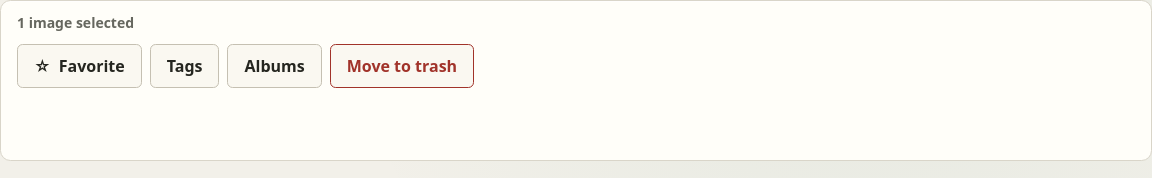
Scenario: curation actions › shows the change before the answer and takes it back when it fails
Click the button "☆ Favorite" at (79, 66), box [17,44,142,88]
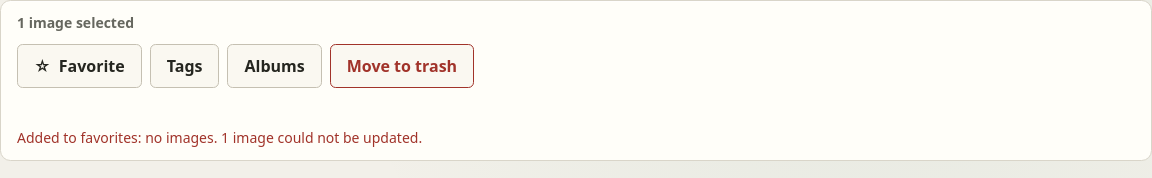
Check: the message named "Curation result" reads "Added to favorites: no images. 1 image could not be updated.", box [17,128,422,147]
